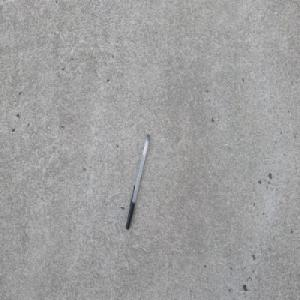Pen: (125, 133, 150, 231)
